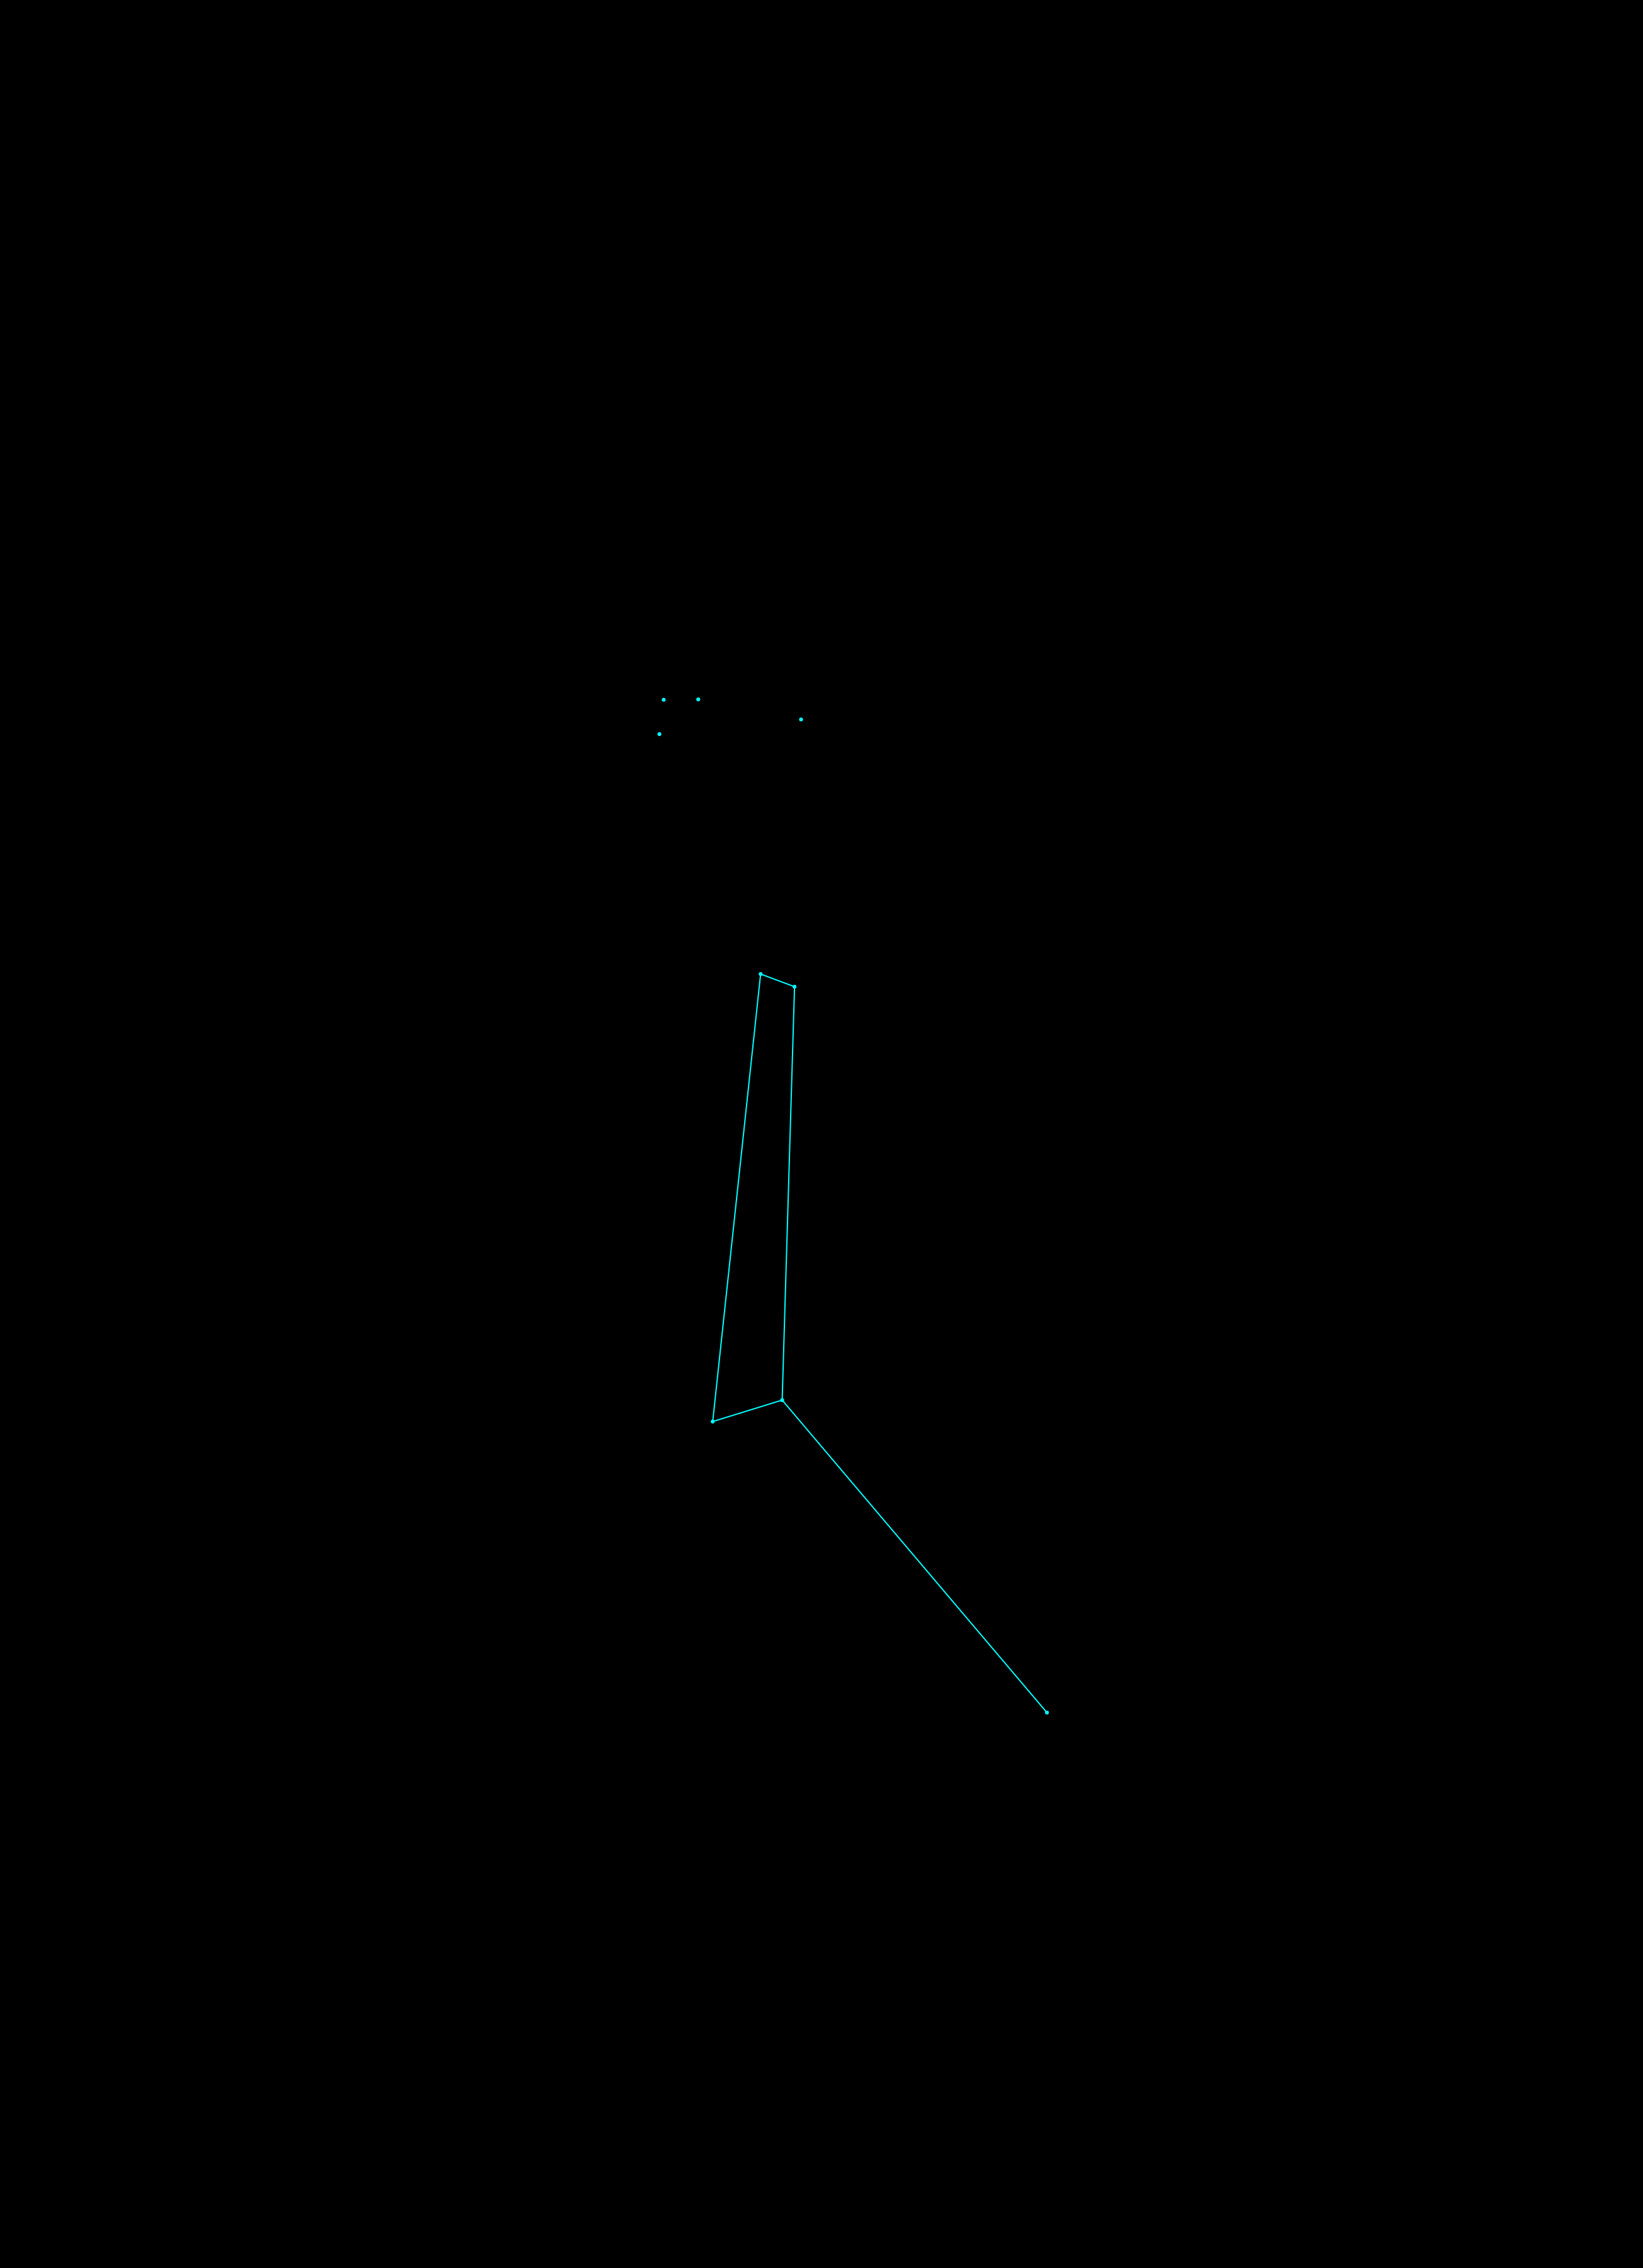warrior_1: (613, 639, 1079, 1757)
